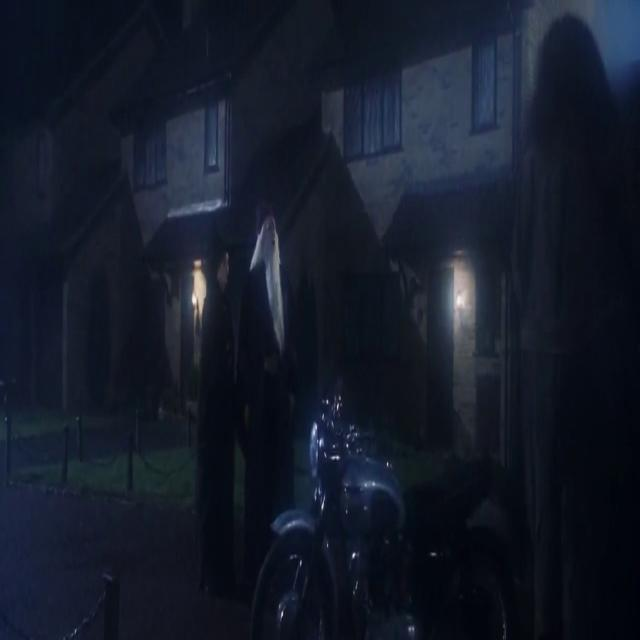Motorbike: (235, 287, 486, 640)
